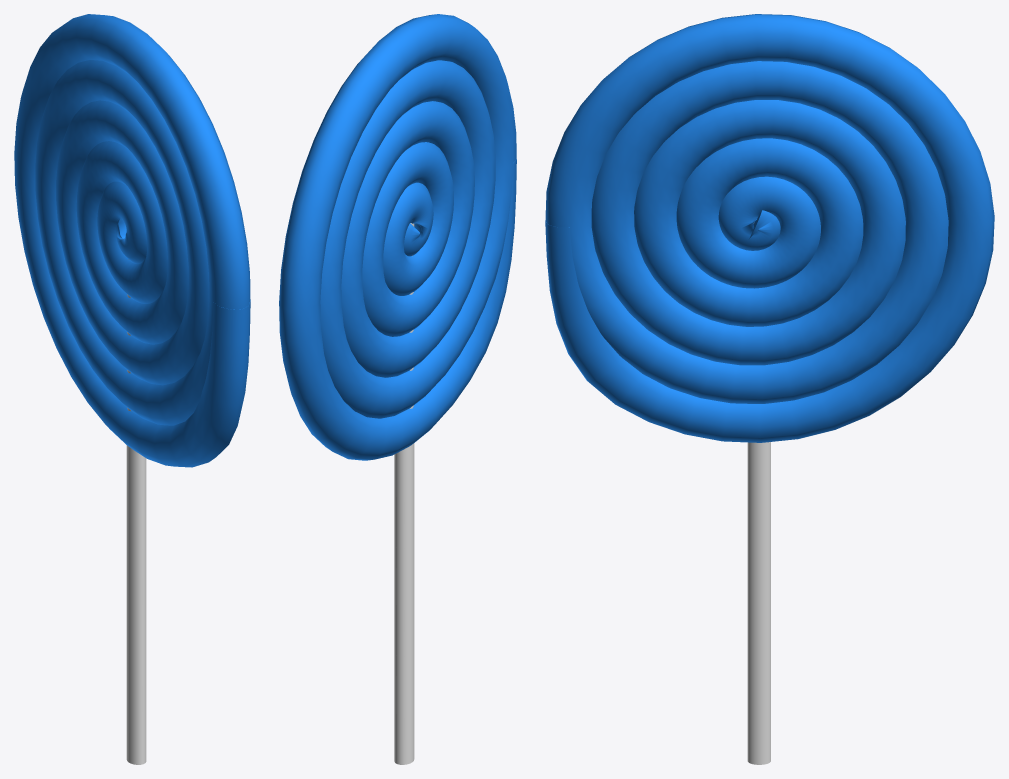
File: Spirallolly.fbx
The picture shows the model from 3 angles, left to right: view 1: azimuth 30°, elevation 25°; view 2: azimuth 150°, elevation 25°; view 3: azimuth 270°, elevation 25°; orthographic projection. The views are drawn at different scales.
Visible parts, largest first — view 1: Helix001, Cylinder001; view 2: Helix001, Cylinder001; view 3: Helix001, Cylinder001.
Part boxes in pixels (x1=…): Helix001: x1=14, y1=14, x2=250, y2=467; Cylinder001: x1=126, y1=259, x2=146, y2=764; Helix001: x1=279, y1=14, x2=516, y2=460; Cylinder001: x1=394, y1=223, x2=414, y2=764; Helix001: x1=545, y1=14, x2=994, y2=442; Cylinder001: x1=747, y1=442, x2=770, y2=764.
Bounding box in the file's own units: 19.48 × 368 × 201.
